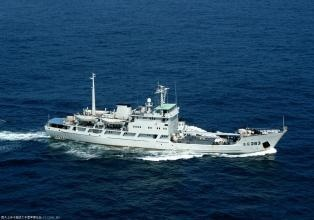warship: (45, 79, 291, 161)
